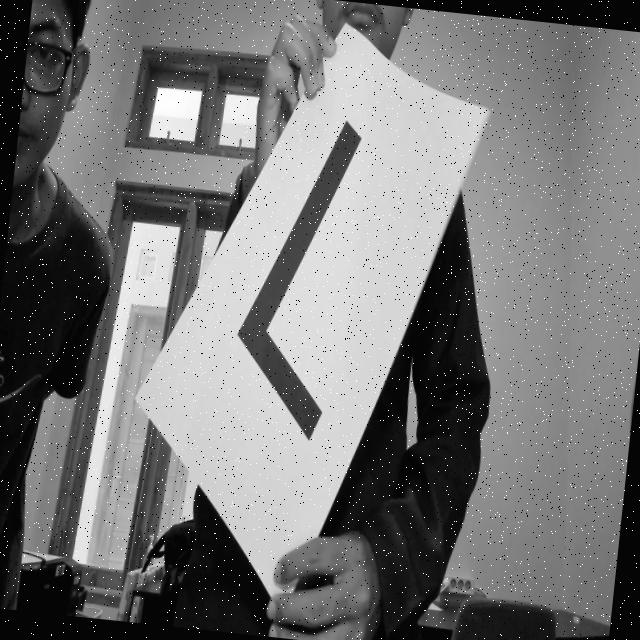l: (200, 93, 408, 490)
